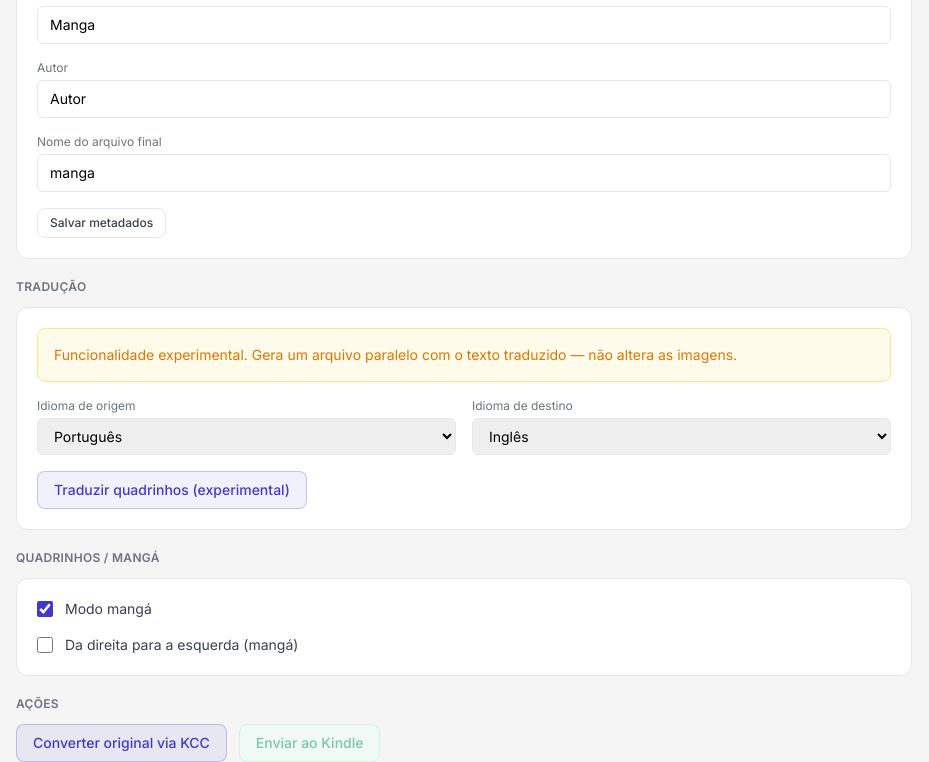
Test: AnalysisPage — tradução experimental de quadrinhos (Fase D) › exibe comicTranslateFailed após erro de rede no botão
(page scrolled)
Step 1. Click the button "Traduzir quadrinhos (experimental)" → (172, 490), box [37,470,307,508]
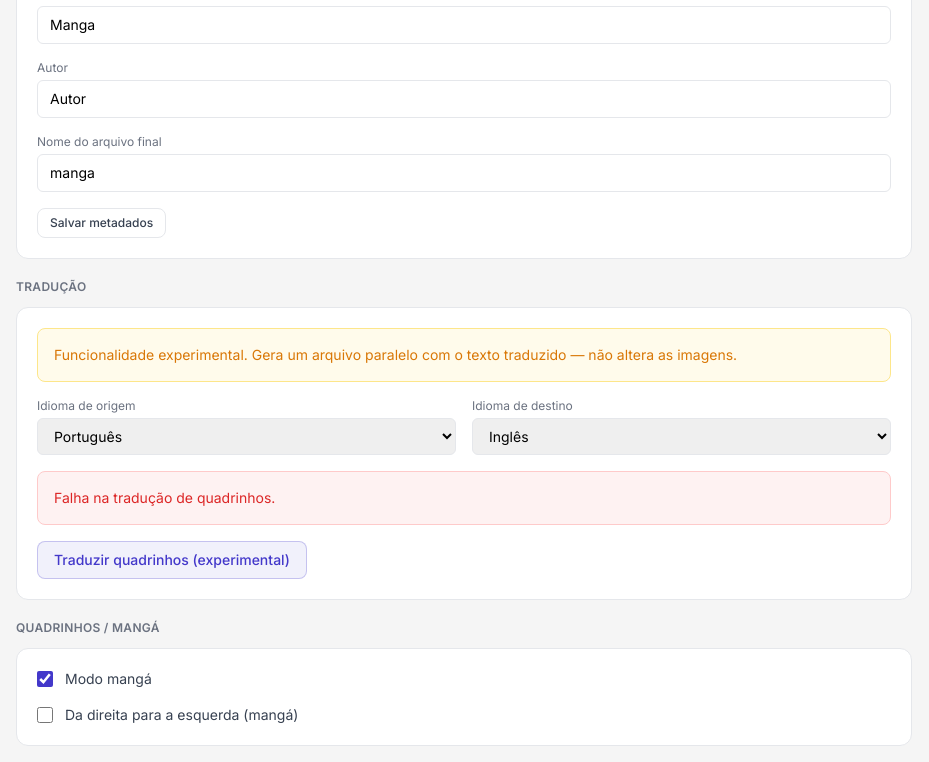
expect the text "Falha na tradução de quadrinhos." is shown: met, box [37,470,891,524]
